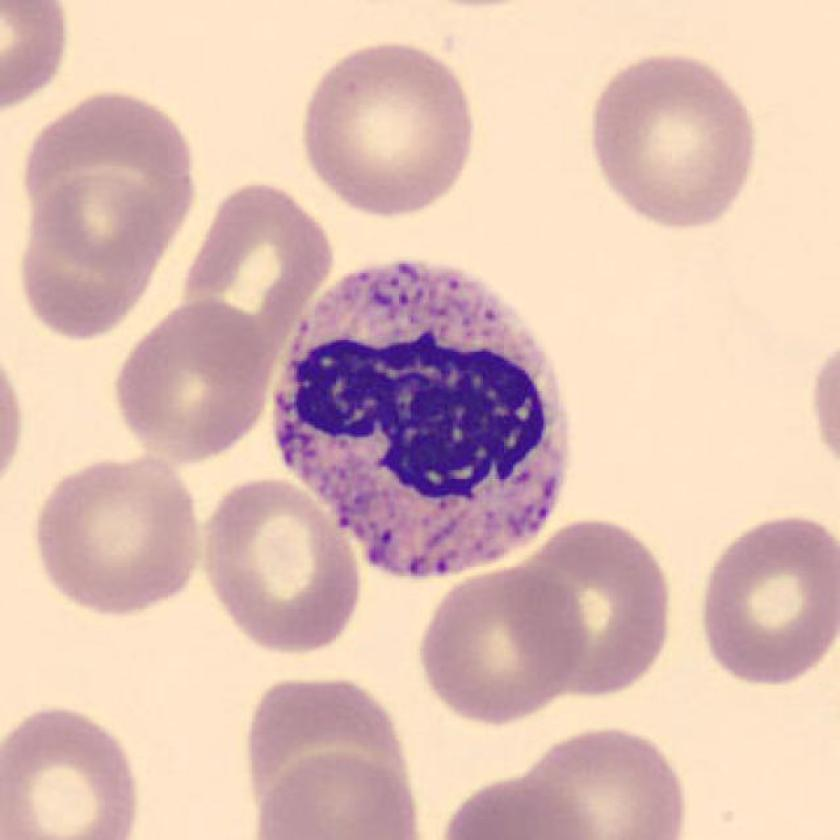neutrophil: (273, 262, 568, 576)
